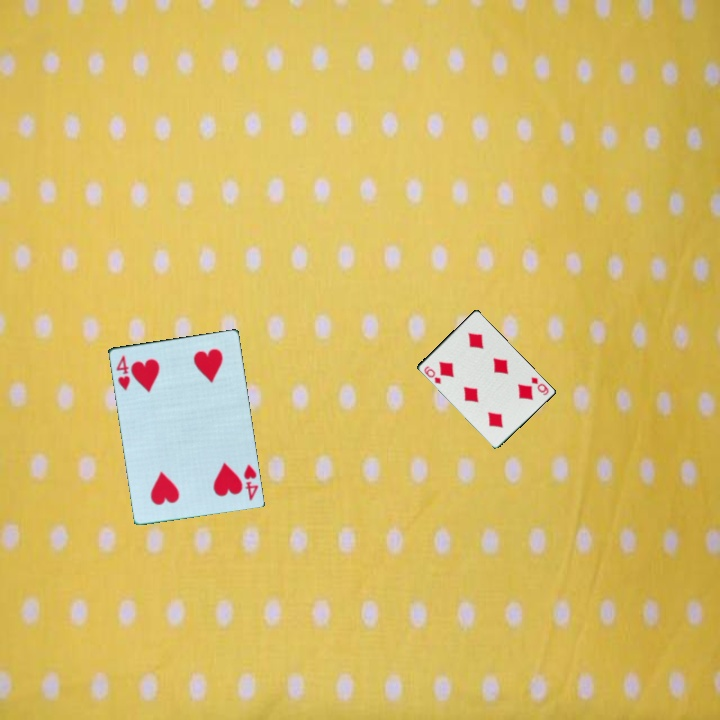4h: (240, 460, 261, 503), (112, 351, 133, 393)
6d: (527, 374, 551, 398), (420, 363, 443, 387)
